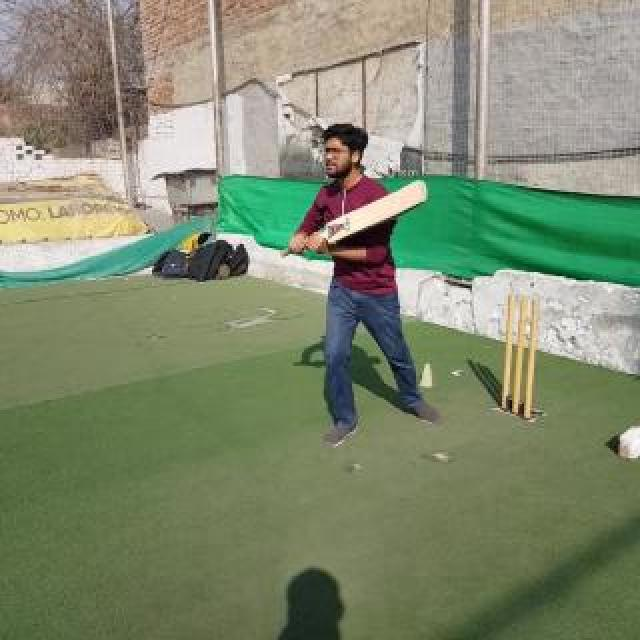bat: (280, 180, 428, 258)
